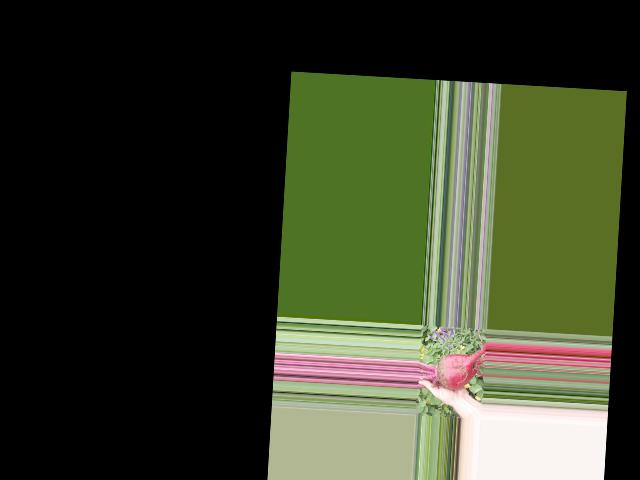beet: (417, 339, 486, 391)
